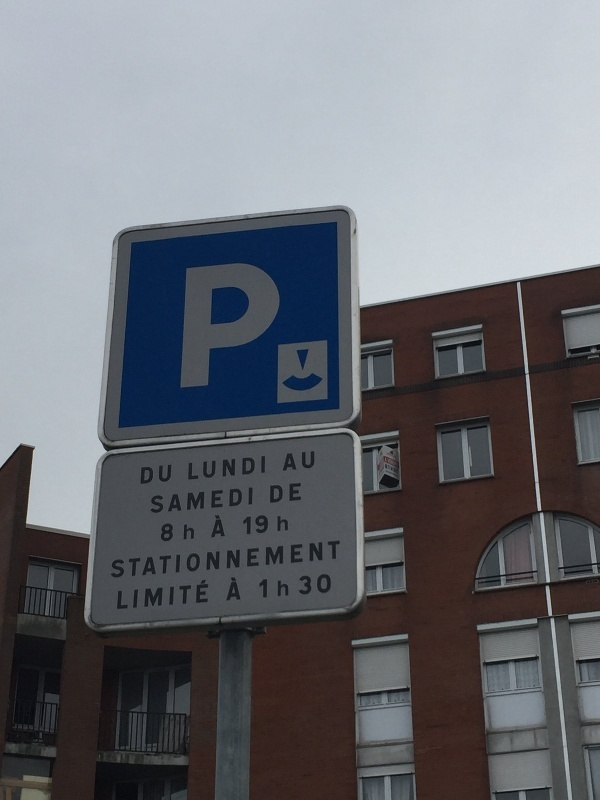text: (193, 266, 208, 391), (209, 266, 224, 391), (225, 266, 240, 391), (241, 266, 256, 391), (257, 266, 272, 391), (273, 266, 288, 391), (186, 266, 192, 391), (113, 538, 128, 580), (129, 538, 144, 580), (145, 538, 160, 580), (161, 538, 176, 580), (177, 538, 192, 580), (193, 538, 208, 580), (209, 538, 224, 580), (225, 538, 240, 580), (241, 538, 256, 580), (257, 538, 272, 580), (273, 538, 288, 580), (289, 538, 304, 580), (305, 538, 320, 580), (321, 538, 336, 580), (289, 266, 294, 391), (129, 577, 144, 611), (145, 577, 160, 611), (161, 577, 176, 611), (177, 577, 192, 611), (193, 577, 208, 611), (161, 486, 176, 515), (177, 486, 192, 515), (193, 486, 208, 515), (209, 486, 224, 515), (225, 486, 240, 515), (193, 454, 208, 482), (209, 454, 224, 482), (225, 454, 240, 482), (241, 454, 256, 482), (305, 573, 320, 599), (273, 481, 288, 505), (241, 486, 253, 515), (145, 464, 160, 487), (118, 577, 128, 611), (289, 450, 304, 472), (161, 522, 176, 543), (289, 481, 302, 505), (385, 456, 400, 476), (321, 573, 332, 599), (243, 515, 256, 536), (259, 578, 272, 599), (151, 486, 160, 515), (161, 464, 172, 487), (257, 454, 266, 482), (257, 515, 269, 536), (305, 450, 316, 472), (231, 576, 240, 602), (337, 538, 342, 580), (278, 579, 288, 598), (216, 515, 224, 538), (277, 516, 288, 532), (184, 523, 192, 541), (299, 573, 304, 599), (379, 456, 384, 476), (189, 454, 192, 482), (141, 464, 144, 487), (270, 481, 272, 505), (193, 523, 195, 541), (209, 577, 210, 611), (241, 576, 242, 602), (225, 515, 226, 538), (287, 450, 288, 472)
